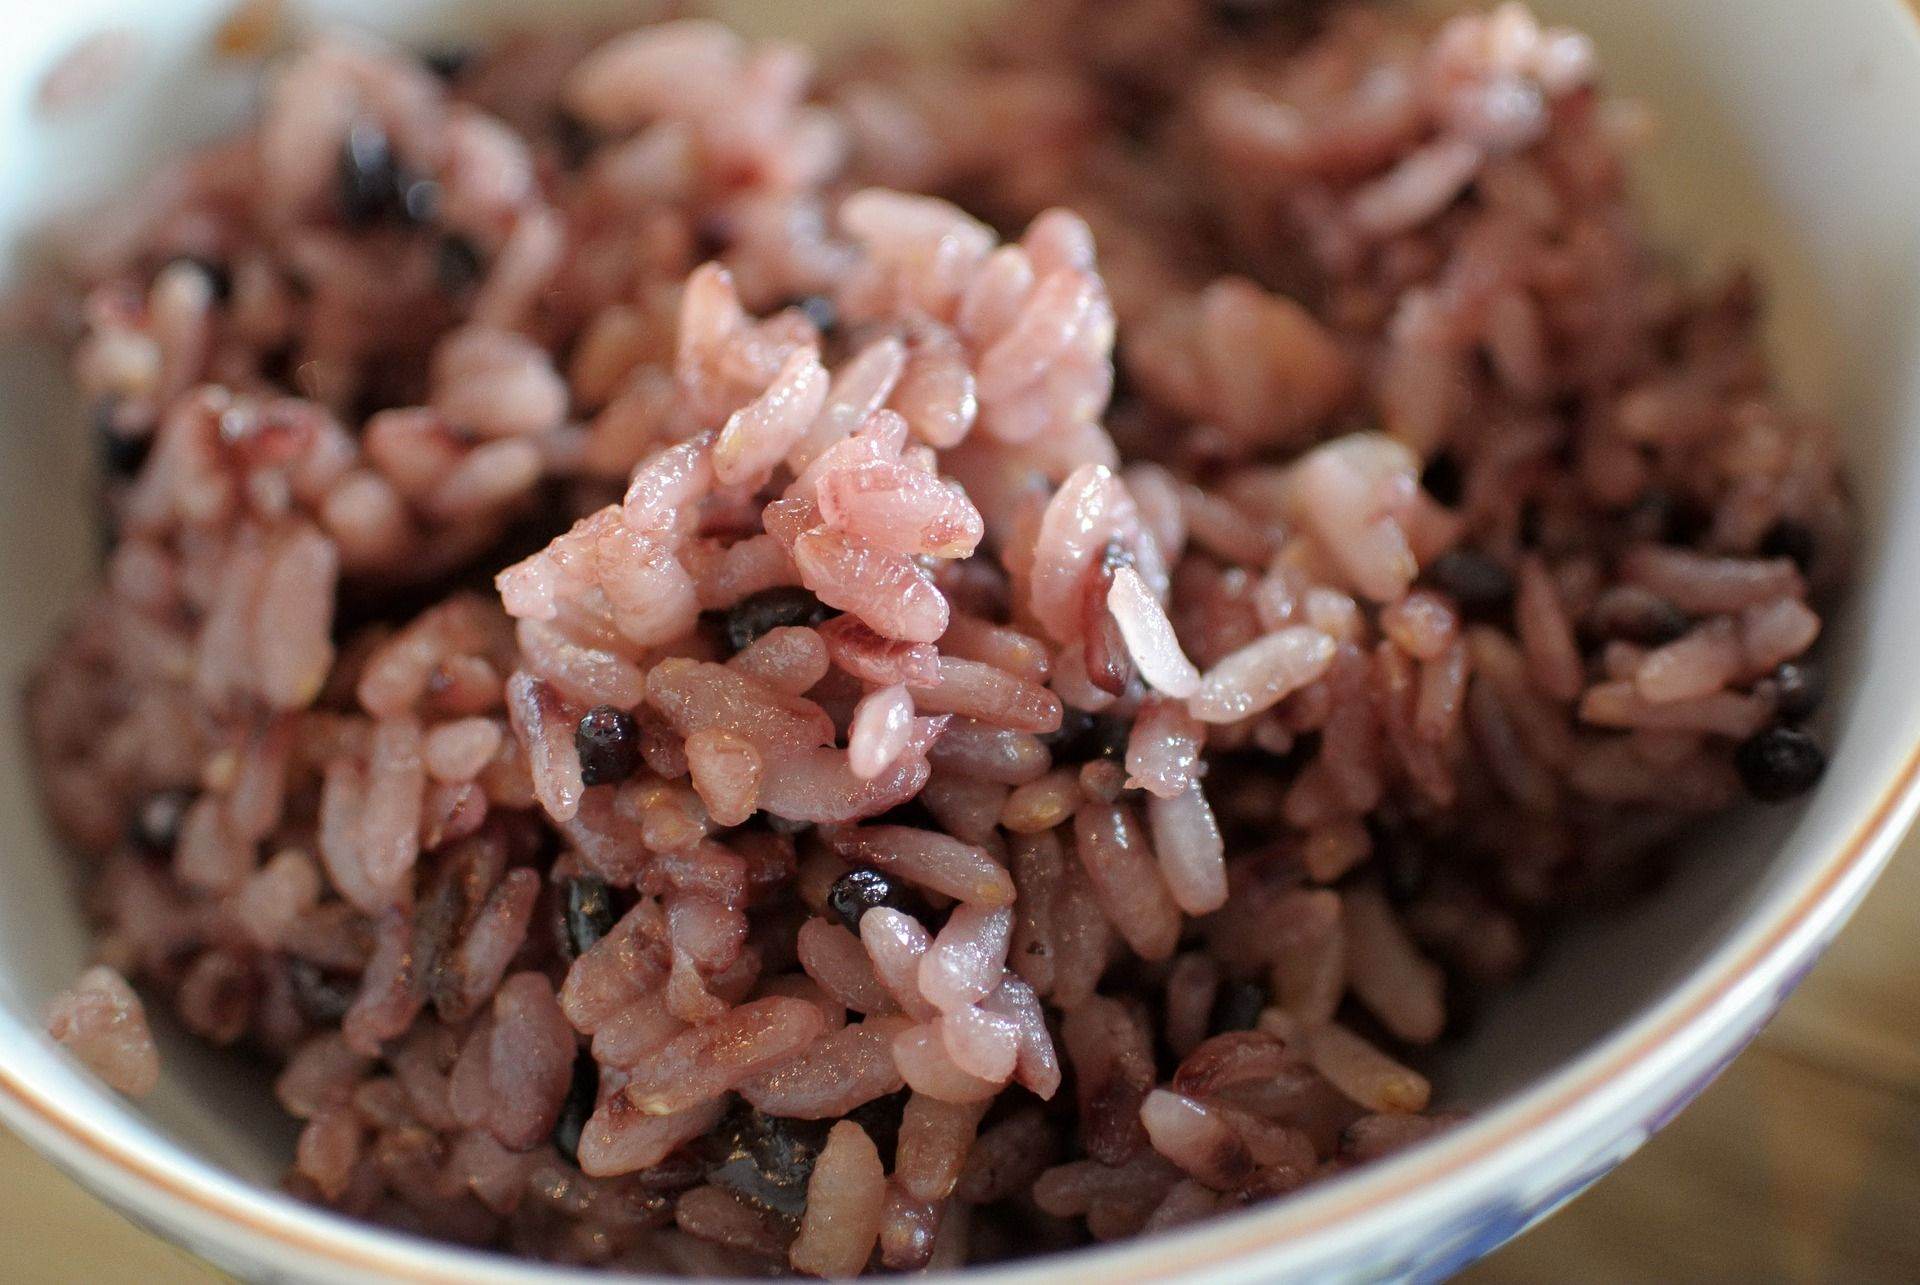Nasi Merah: (22, 33, 1868, 1271)
